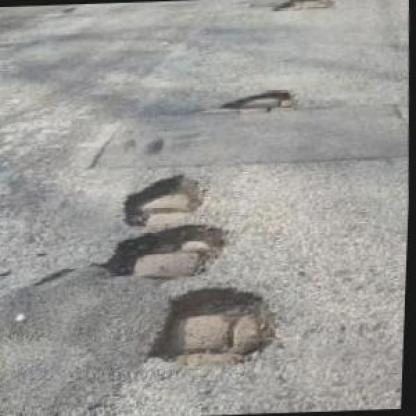pothole: (146, 283, 282, 369), (101, 222, 232, 283), (122, 170, 208, 224), (218, 86, 302, 114)
